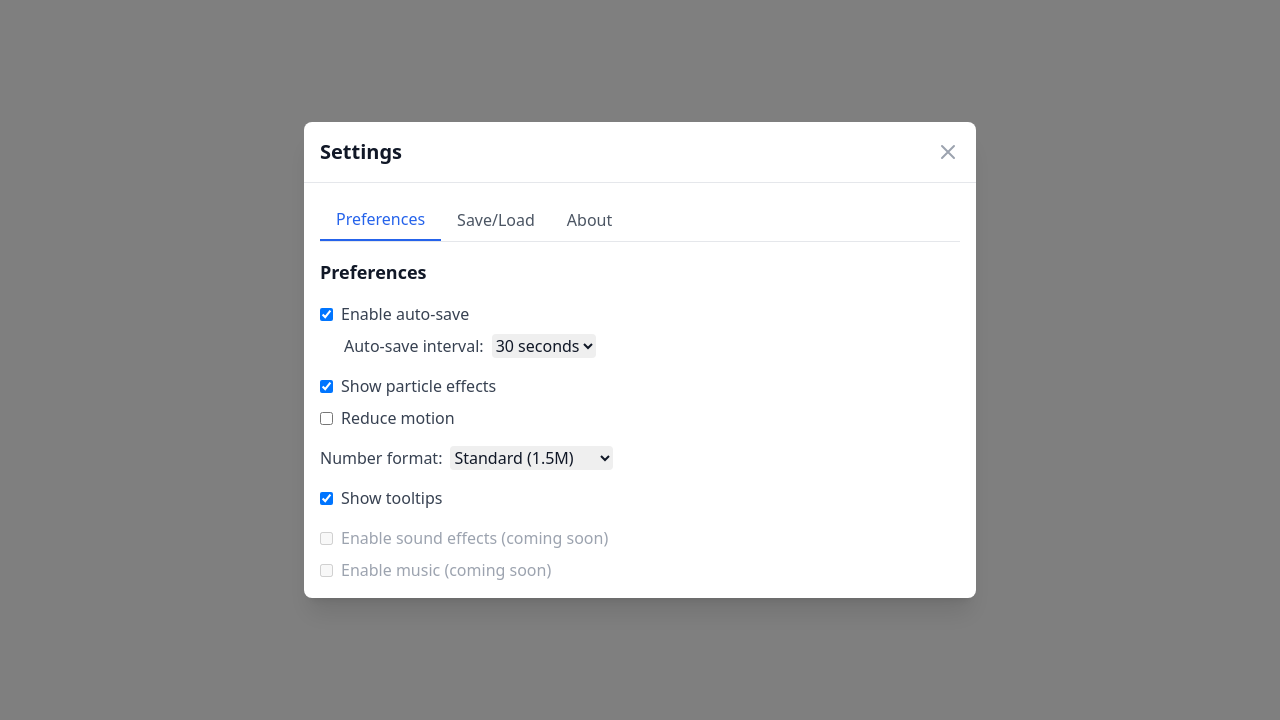
Scenario: Settings › Save/Load Tab › should render save/load options
This screenshot has width=1280, height=720.
Click the button "Save/Load".
click(496, 220)  # box [441, 199, 551, 241]
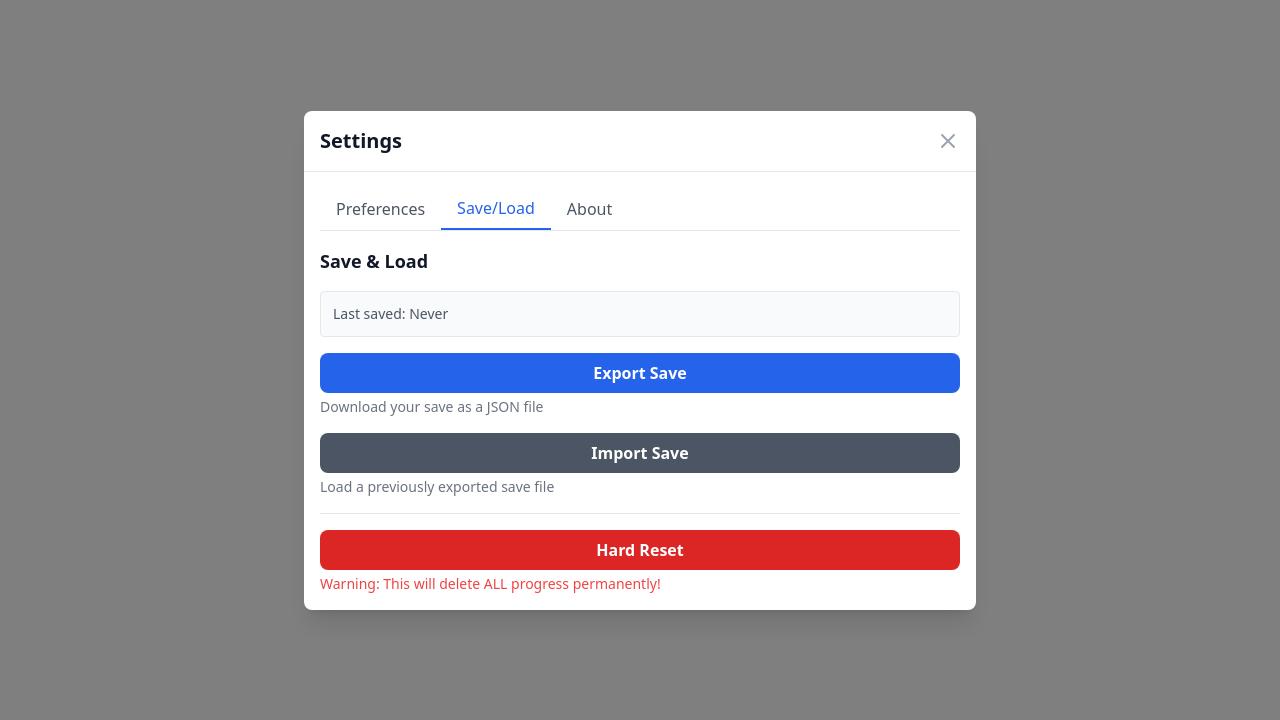
Now the button "Export Save" is shown, box [320, 352, 960, 392]
Now the button "Import Save" is shown, box [320, 432, 960, 472]
Now the button "Hard Reset" is shown, box [320, 530, 960, 570]
